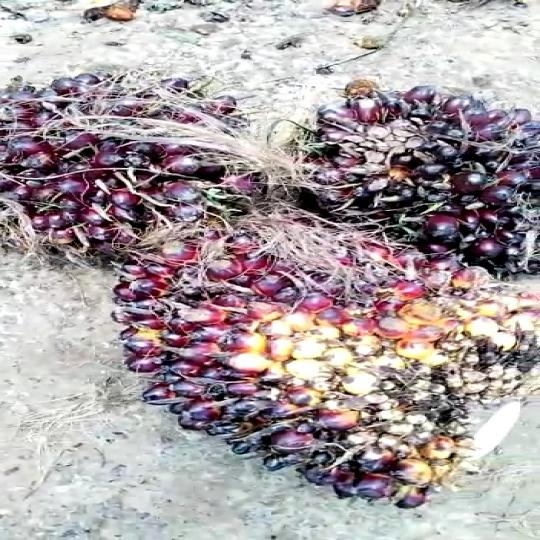kurang masak: (96, 236, 540, 495), (0, 53, 250, 275), (283, 78, 540, 283)
